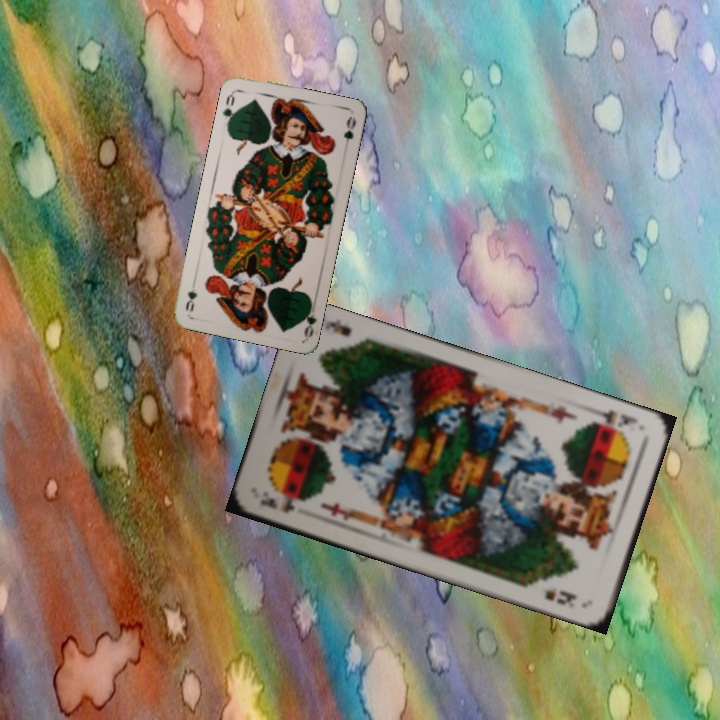GO: (297, 297, 319, 339), (218, 88, 239, 128)
SK: (588, 406, 641, 436), (256, 493, 308, 516)
